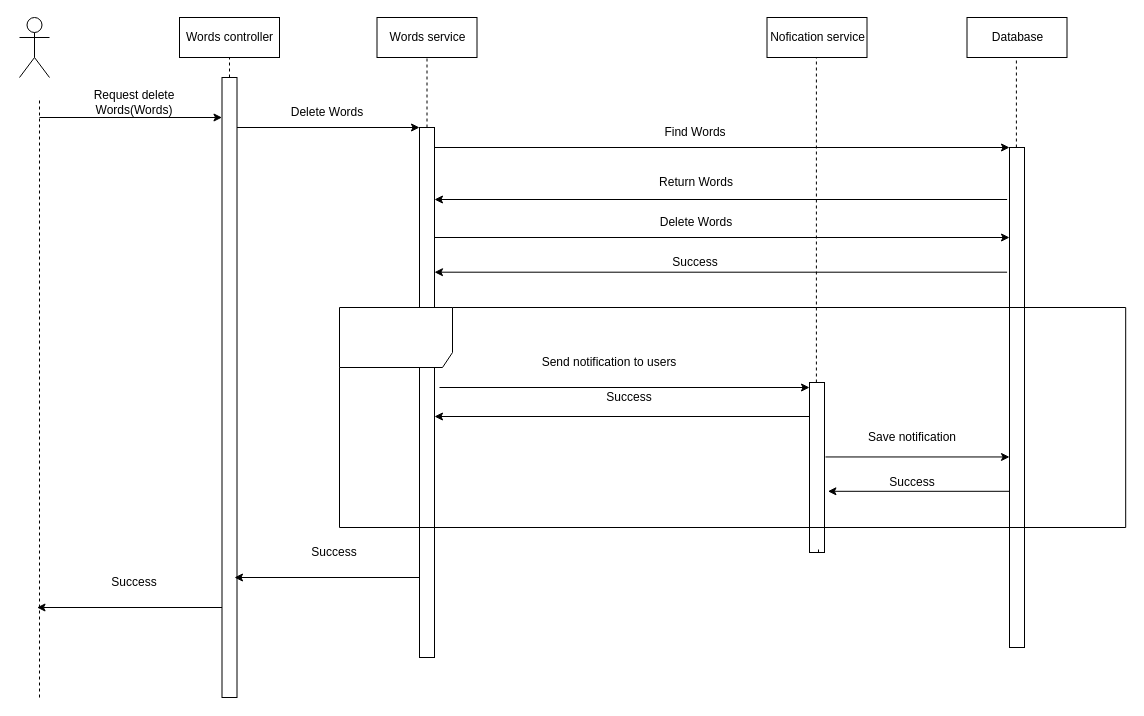
This 1144x716 diagram has some shape labels left out. The centre of each missing label's shape, as x and y in pixels:
Admin: [34,47]
Not Words created by admin: [732,417]
